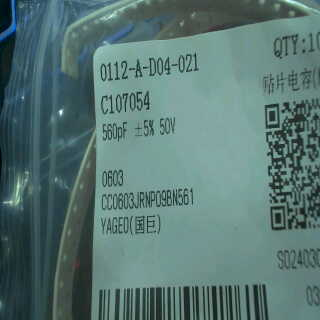560pF: (100, 117, 128, 145)
